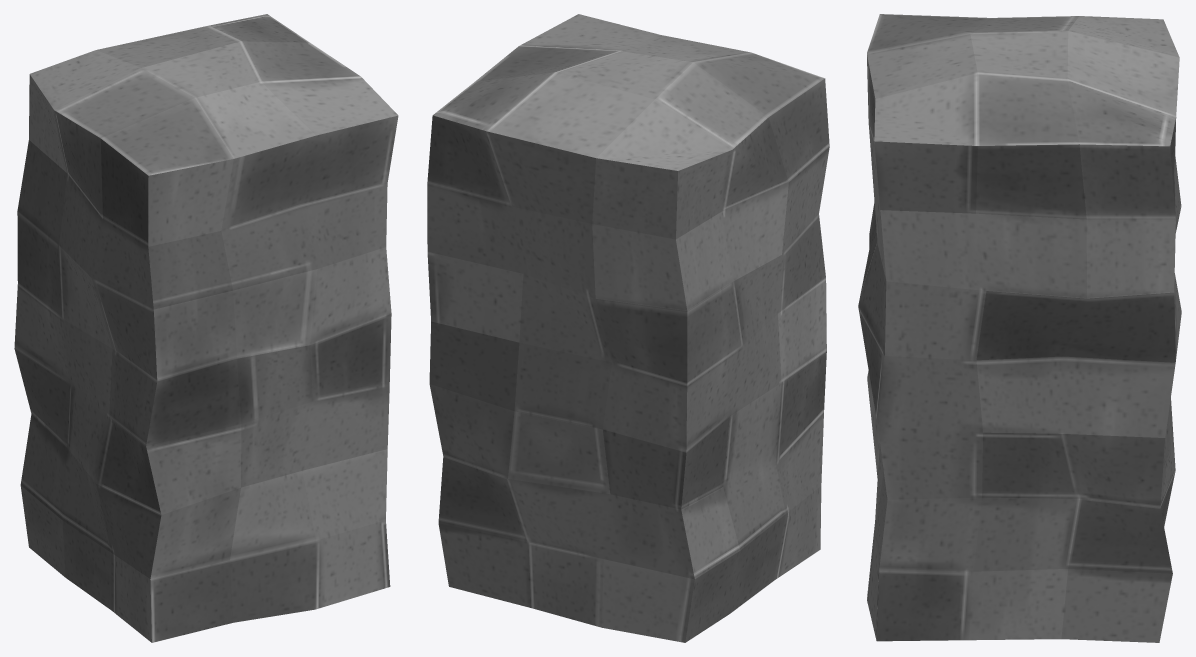
The model's file is Parede.fbx.
The picture shows the model from 3 angles, left to right: view 1: azimuth 30°, elevation 25°; view 2: azimuth 150°, elevation 25°; view 3: azimuth 270°, elevation 25°; orthographic projection. The views are drawn at different scales.
Visible parts, largest first — view 1: Parede; view 2: Parede; view 3: Parede.
Boxes of the visible parts, x1,y1,x2,y2 form: Parede: (14, 14, 398, 642); Parede: (427, 14, 829, 642); Parede: (858, 14, 1181, 642).
Bounding box in the file's own units: 245 × 419 × 232.
